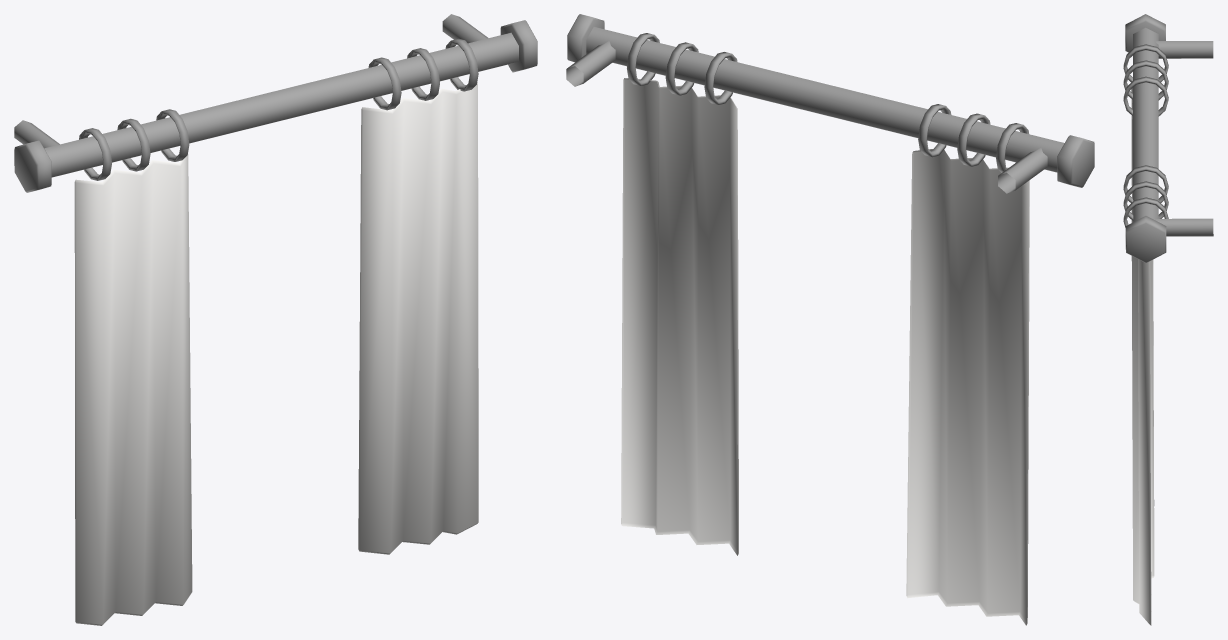
File: curtain.fbx
3 views of the same model, side by side, from view 1: azimuth 30°, elevation 25°; view 2: azimuth 150°, elevation 25°; view 3: azimuth 270°, elevation 25° (orthographic). The views are drawn at different scales.
Parts seen in each view (by area): view 1: Curtains_1.001, Curtains_1.002, Curtains_1; view 2: Curtains_1.002, Curtains_1.001, Curtains_1; view 3: Curtains_1, Curtains_1.001, Curtains_1.002.
Boxes of the visible parts, left/top/right/bottom form: Curtains_1.001: left=358, top=82, right=478, bottom=554; Curtains_1.002: left=74, top=154, right=192, bottom=625; Curtains_1: left=14, top=14, right=537, bottom=192; Curtains_1.002: left=906, top=149, right=1029, bottom=625; Curtains_1.001: left=621, top=78, right=738, bottom=555; Curtains_1: left=566, top=14, right=1094, bottom=193; Curtains_1: left=1123, top=14, right=1213, bottom=262; Curtains_1.001: left=1131, top=208, right=1154, bottom=625; Curtains_1.002: left=1131, top=88, right=1154, bottom=505.
Bounding box in the file's own units: 212 × 200 × 38.41.
